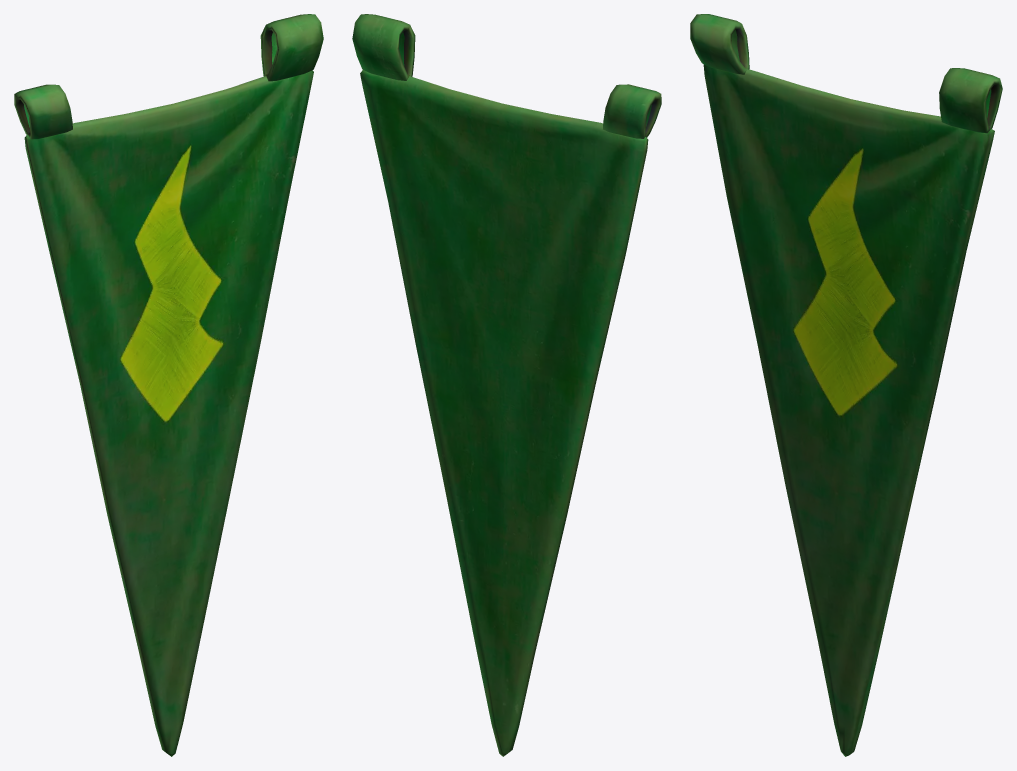
3 views of the same model, side by side, from view 1: azimuth 30°, elevation 25°; view 2: azimuth 150°, elevation 25°; view 3: azimuth 330°, elevation 25° (orthographic).
Visible parts, largest first — view 1: SM_Single_Banner_Guthix_01v1_LOD0; view 2: SM_Single_Banner_Guthix_01v1_LOD0; view 3: SM_Single_Banner_Guthix_01v1_LOD0.
Part boxes in pixels (left/top/right/bottom): SM_Single_Banner_Guthix_01v1_LOD0: left=14, top=14, right=323, bottom=756; SM_Single_Banner_Guthix_01v1_LOD0: left=352, top=14, right=661, bottom=756; SM_Single_Banner_Guthix_01v1_LOD0: left=690, top=14, right=1002, bottom=756.
Size of the model in its own units: 0.8658 by 1.98 by 0.1067.
1 material, 1 textured.
